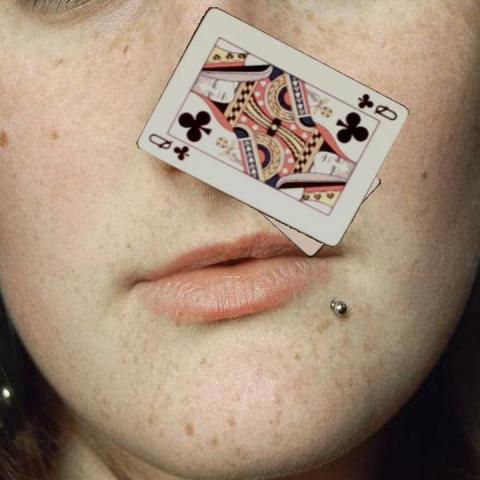Qc: (144, 130, 190, 163), (354, 90, 399, 122)
